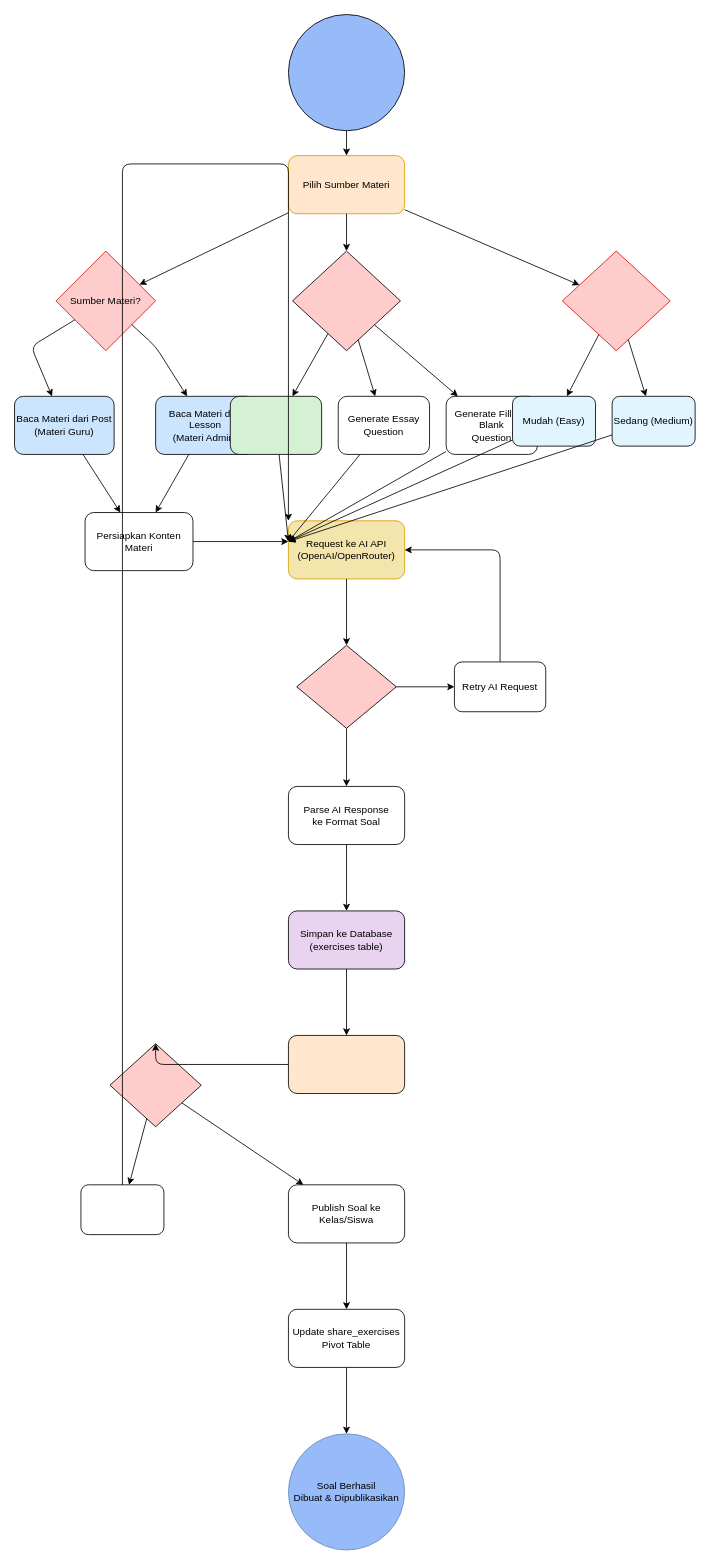
The diagram is 710 pixels wide and 1565 high, and some of its shapes have lost their labels. Here are the shapes that lost their labels. From the top down, the centre of each, then its label:
point (346, 72): Guru Masuk ke Menu Generate Soal
point (346, 300): Tipe Soal?
point (615, 300): Tingkat Kesulitan?
point (275, 424): Generate Multiple Choice Question
point (346, 686): AI Response Valid?
point (346, 1064): Preview & Validasi Soal
point (155, 1085): Terima Soal?
point (122, 1209): Generate Ulang
